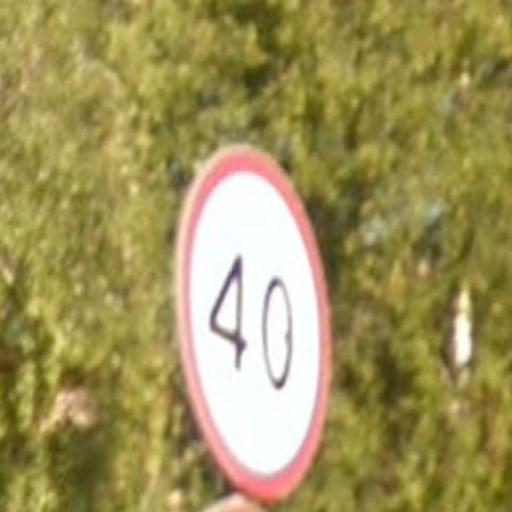traffic_sign: (173, 141, 339, 506)
